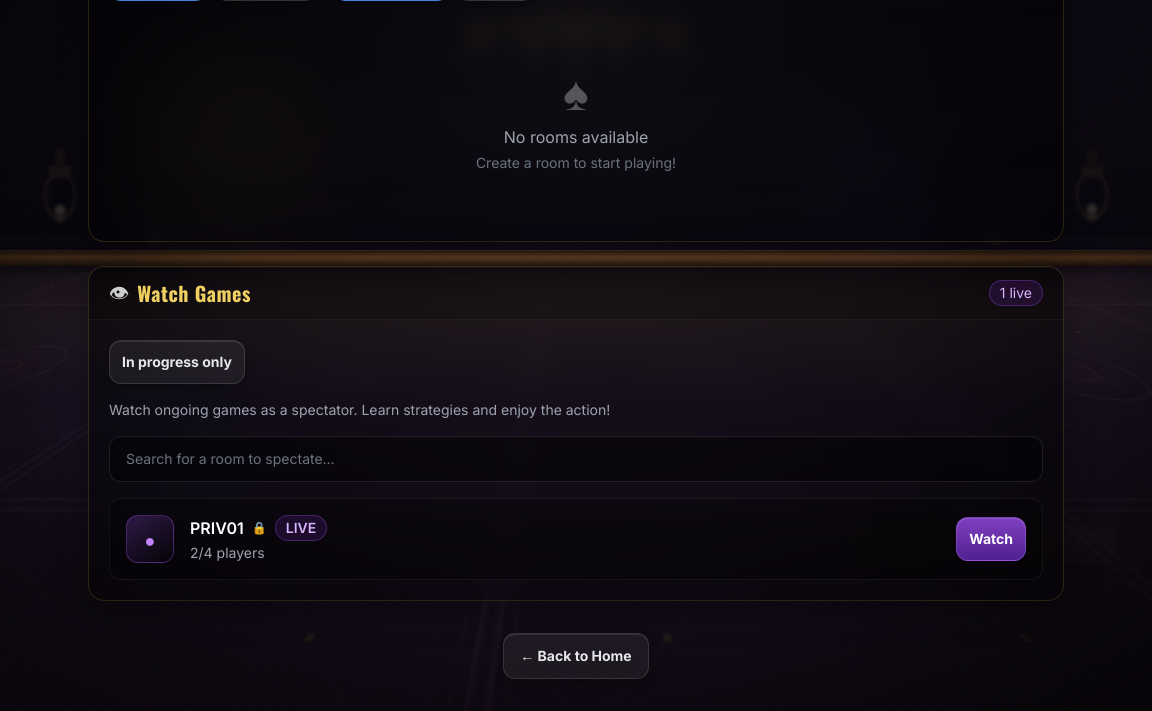
Scenario: Multiplayer lobby UI › opens password modal when spectating a private room
The width and height of the screenshot is (1152, 711).
(page scrolled)
Click the button "Watch".
click(991, 539)  # box 956,517 -> 1026,561
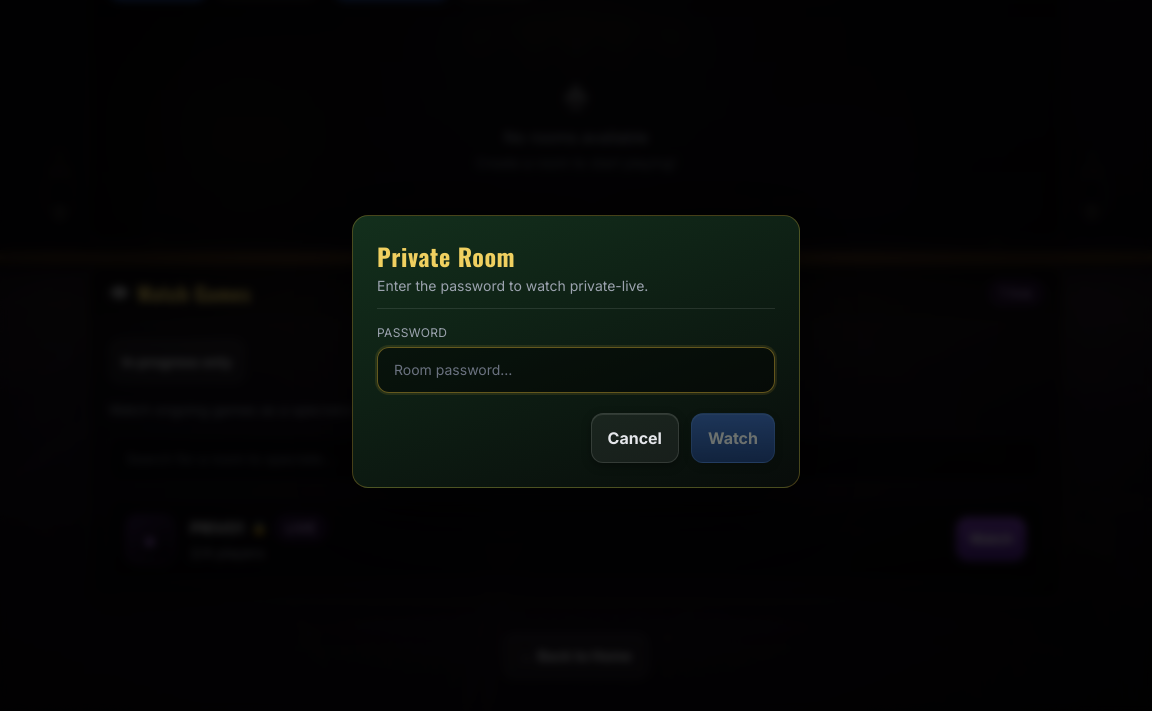
Check: the text "Enter the password to watch private-live." is shown, box 377,276 -> 648,294
